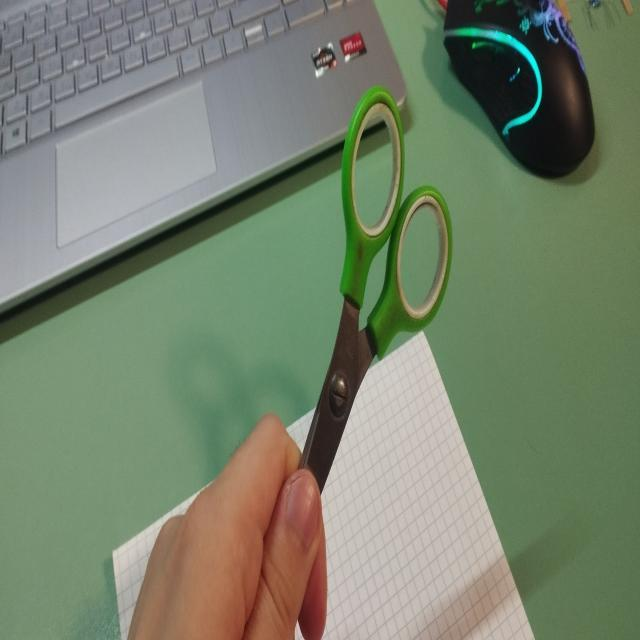tesoura: (270, 80, 458, 630)
